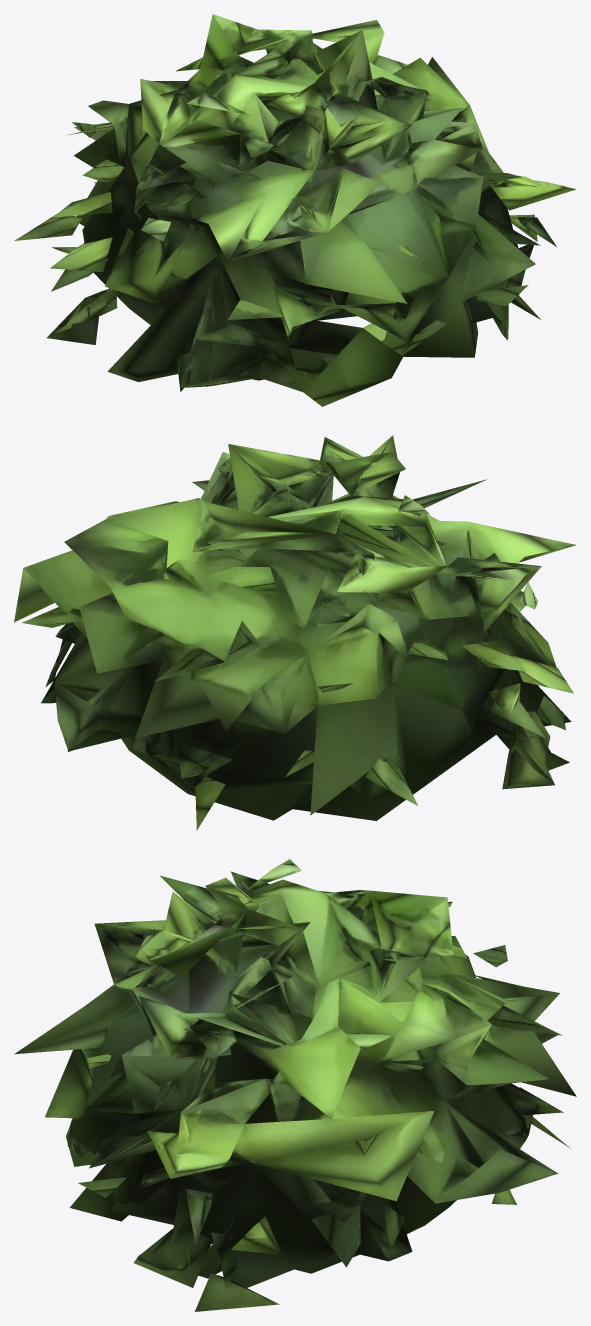
The model's file is cespuglio1.glb.
The picture shows the model from 3 angles, top to bottom: view 1: azimuth 30°, elevation 25°; view 2: azimuth 150°, elevation 25°; view 3: azimuth 270°, elevation 25°; orthographic projection. The views are drawn at different scales.
Parts seen in each view (by area): view 1: tripo_node_3b87d689-6fe4-4e69-941d-6c607208328c; view 2: tripo_node_3b87d689-6fe4-4e69-941d-6c607208328c; view 3: tripo_node_3b87d689-6fe4-4e69-941d-6c607208328c.
Part boxes in pixels (box(x1,y1,x2,y2)): tripo_node_3b87d689-6fe4-4e69-941d-6c607208328c: box(14, 14, 576, 406); tripo_node_3b87d689-6fe4-4e69-941d-6c607208328c: box(14, 435, 576, 830); tripo_node_3b87d689-6fe4-4e69-941d-6c607208328c: box(14, 859, 576, 1311).
Bounding box in the file's own units: 1 × 0.6198 × 0.926.
1 material, 1 textured.
